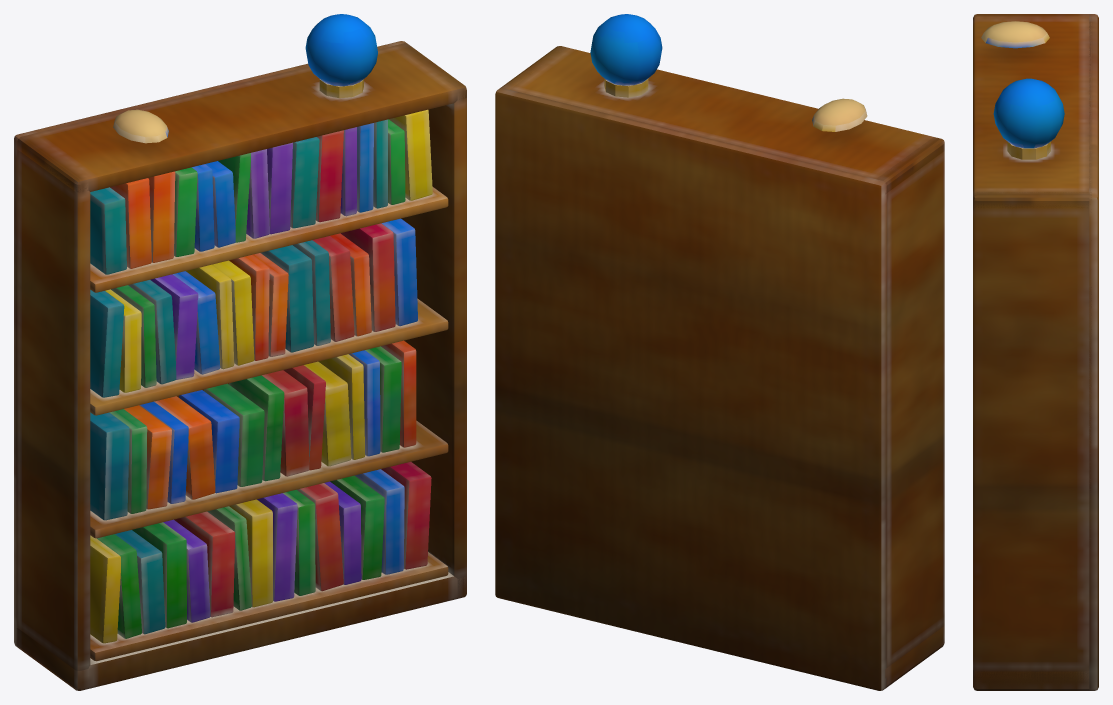
The model's file is bookshelf.glb.
The picture shows the model from 3 angles, left to right: view 1: azimuth 30°, elevation 25°; view 2: azimuth 150°, elevation 25°; view 3: azimuth 270°, elevation 25°; orthographic projection. The views are drawn at different scales.
Visible parts, largest first — view 1: SM_Bookshelf; view 2: SM_Bookshelf; view 3: SM_Bookshelf.
Boxes of the visible parts, left/top/right/bottom form: SM_Bookshelf: left=14, top=14, right=466, bottom=690; SM_Bookshelf: left=495, top=14, right=944, bottom=690; SM_Bookshelf: left=973, top=14, right=1098, bottom=690.
Size of what is drawn, in the model's own units: 1.6 by 2.28 by 0.46.
1 material, 1 textured.
